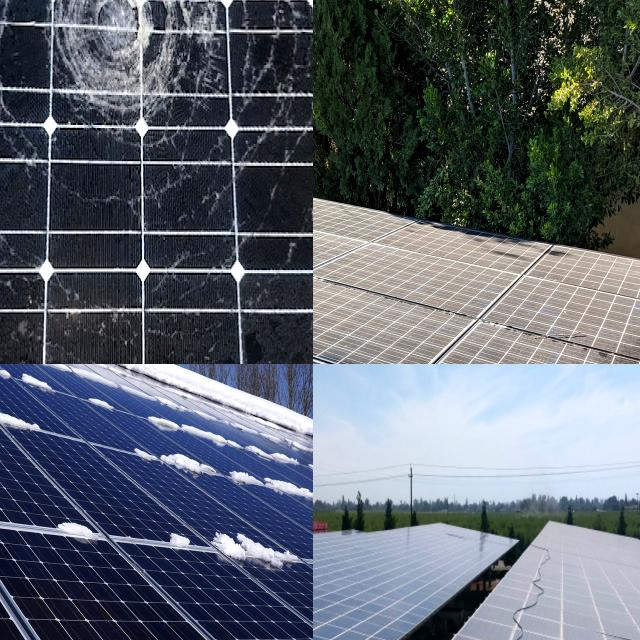dust: (313, 273, 449, 364), (466, 302, 585, 364), (442, 235, 549, 289), (313, 231, 372, 326), (313, 203, 422, 253), (592, 259, 640, 361), (536, 530, 600, 598)
hotspot: (42, 0, 202, 133)
panel: (204, 514, 300, 572), (147, 412, 246, 464), (138, 364, 221, 421), (225, 466, 313, 514), (46, 508, 121, 558), (120, 443, 218, 481), (15, 364, 123, 397), (0, 469, 37, 545), (0, 459, 39, 527), (256, 428, 313, 474), (0, 368, 45, 417), (21, 364, 68, 403), (0, 393, 43, 434), (0, 364, 43, 395), (85, 386, 122, 421), (162, 504, 182, 568), (0, 364, 41, 390), (0, 364, 29, 395), (0, 364, 30, 387), (0, 364, 27, 387)
